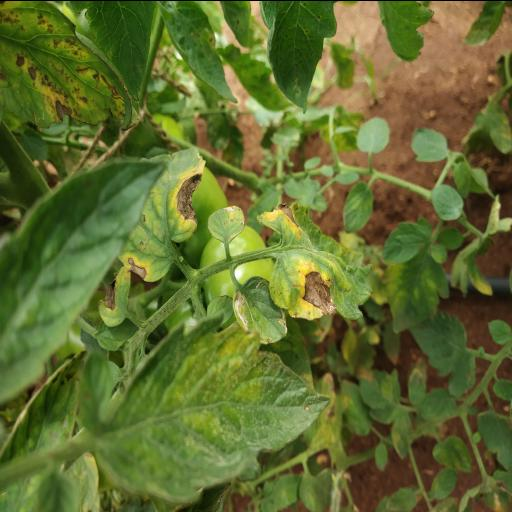disease_tomato: (266, 200, 374, 320), (118, 144, 204, 282)
